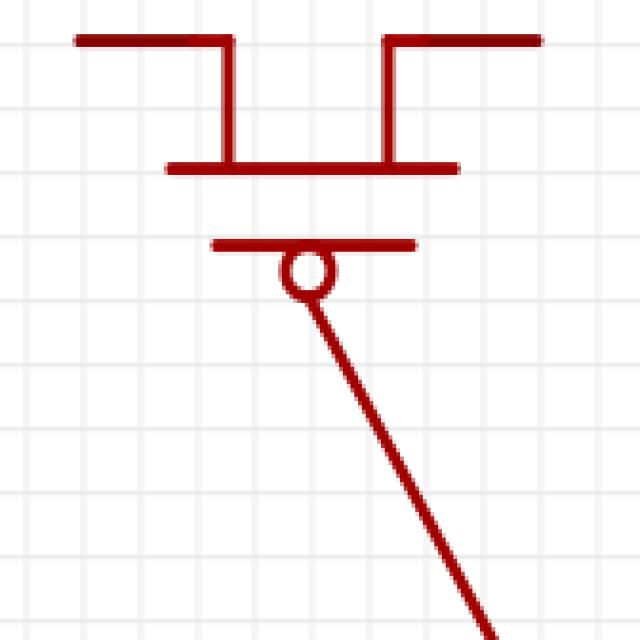pmos: (64, 18, 598, 602)
